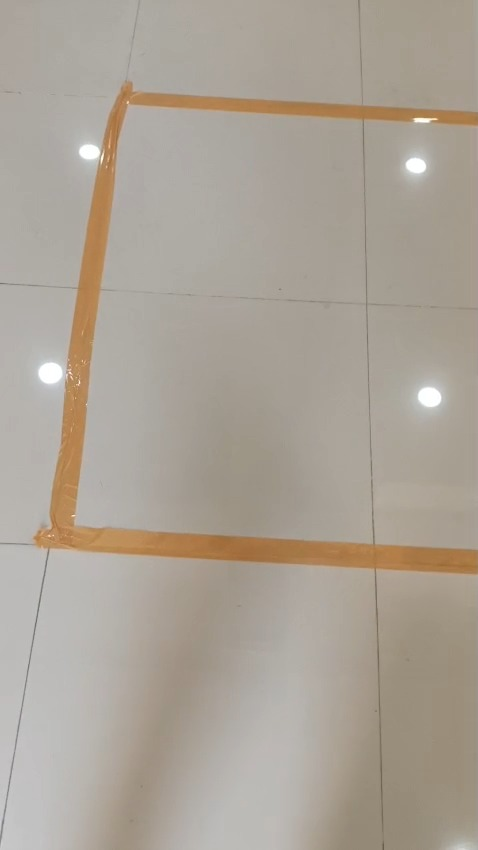floor marking: (35, 82, 477, 573)
